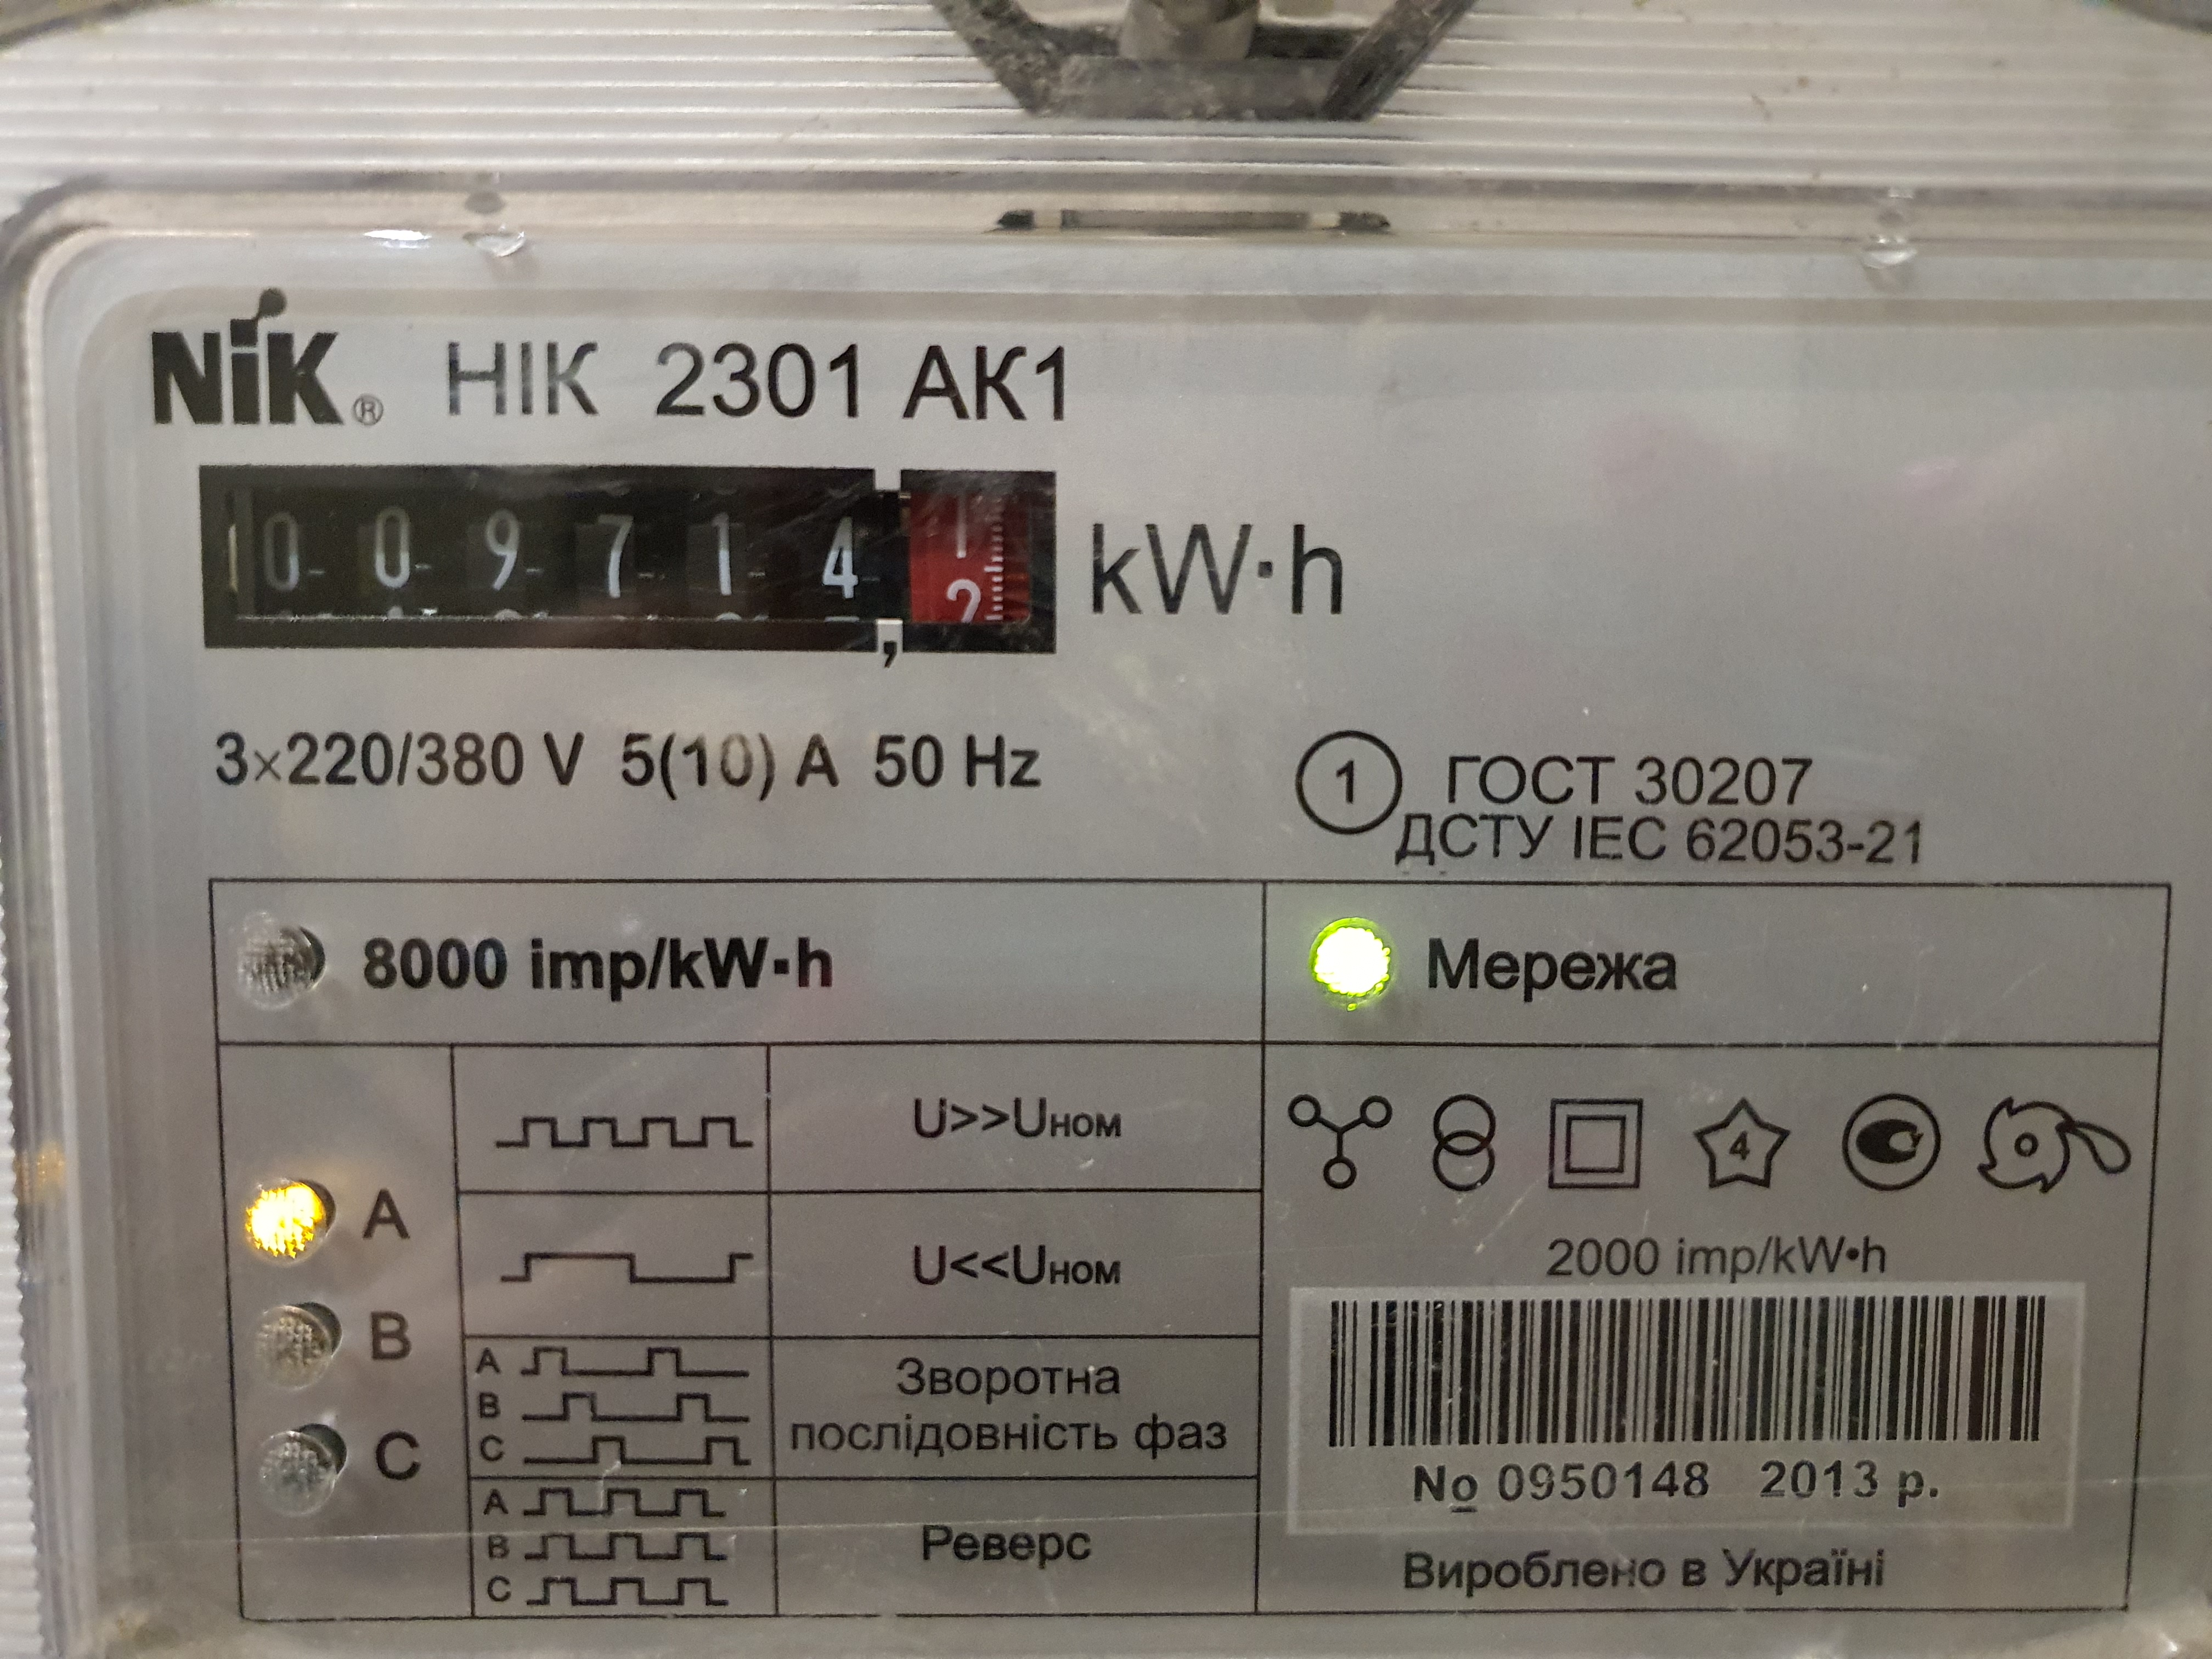0: (256, 505, 307, 598), (369, 500, 415, 592)
1: (704, 505, 742, 599), (948, 490, 972, 563)
2: (942, 573, 984, 626)
4: (815, 511, 864, 605)
7: (592, 509, 637, 603)
9: (475, 504, 524, 594)
screen: (174, 439, 1085, 685)
